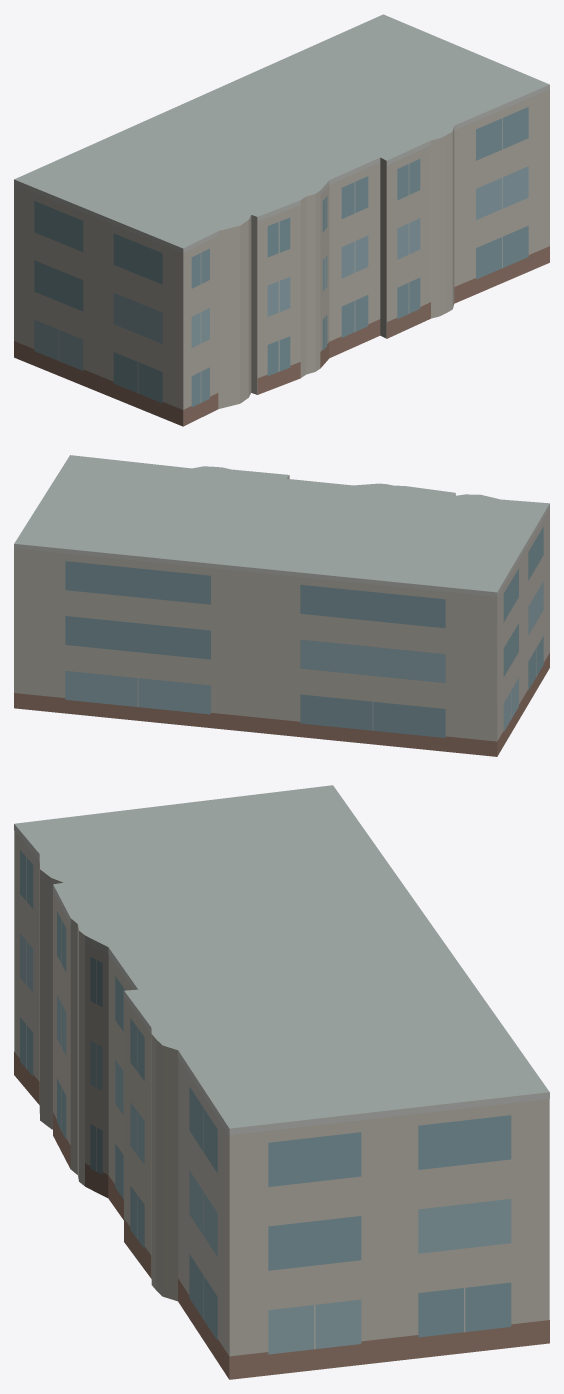
File: survey-upis-32821079.glb
The picture shows the model from 3 angles, top to bottom: view 1: azimuth 30°, elevation 25°; view 2: azimuth 150°, elevation 25°; view 3: azimuth 270°, elevation 25°; orthographic projection. The views are drawn at different scales.
Visible parts, largest first — view 1: survey-upis-32821079.tmp; view 2: survey-upis-32821079.tmp; view 3: survey-upis-32821079.tmp.
Part boxes in pixels (<box>): survey-upis-32821079.tmp: <box>14,14,549,426</box>; survey-upis-32821079.tmp: <box>14,455,549,756</box>; survey-upis-32821079.tmp: <box>14,785,549,1379</box>.
Bounding box in the file's own units: 26.85 × 9.15 × 17.7.
